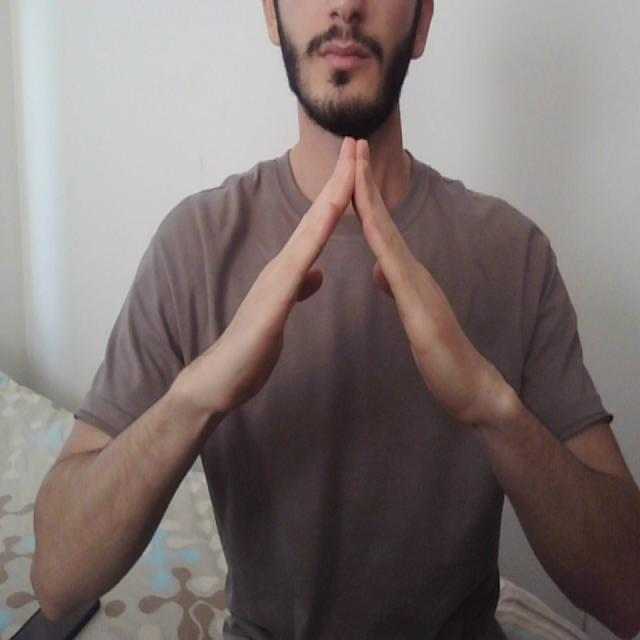Ev: (204, 130, 506, 433)
